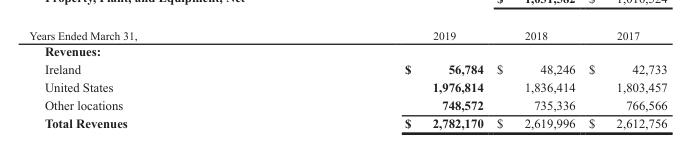table: (28, 28, 666, 129)
table column: (28, 28, 270, 129), (270, 28, 489, 129), (489, 28, 581, 129), (581, 28, 666, 129)
table column header: (28, 28, 666, 42)
table projected row header: (28, 42, 666, 59)
table row: (28, 59, 666, 77), (28, 77, 666, 95), (28, 95, 666, 113), (28, 42, 666, 59), (28, 113, 666, 129), (28, 28, 666, 42)
